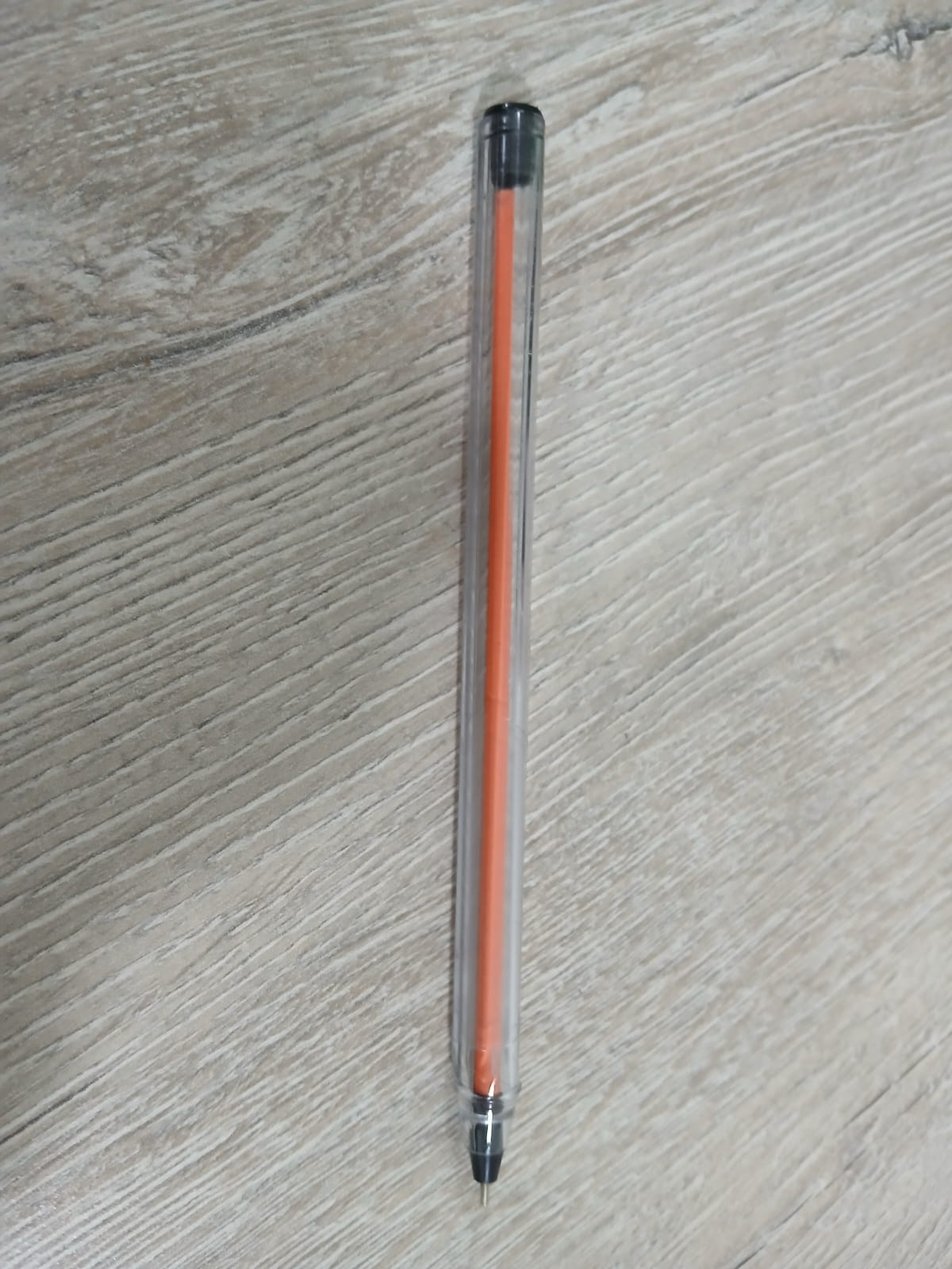Ordinario: (450, 101, 543, 1212)
